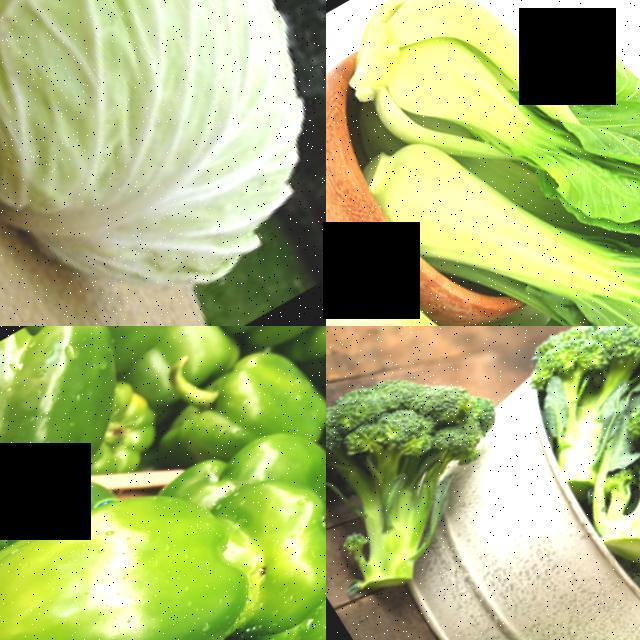bell pepper: (0, 499, 248, 640), (0, 326, 188, 501), (185, 463, 326, 640), (143, 341, 316, 473)
bok choy: (377, 0, 640, 235)
broccoli: (326, 336, 548, 614), (551, 365, 640, 578), (515, 326, 640, 469)
cabbage: (0, 0, 326, 326)
